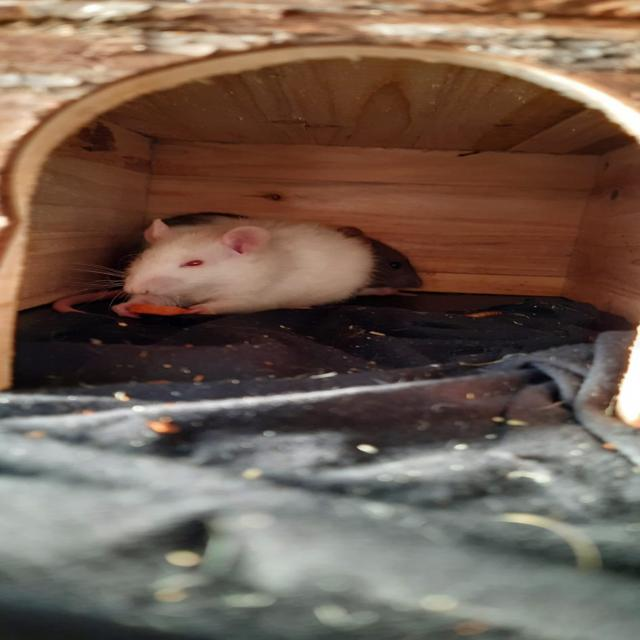rat: (129, 214, 375, 314)
